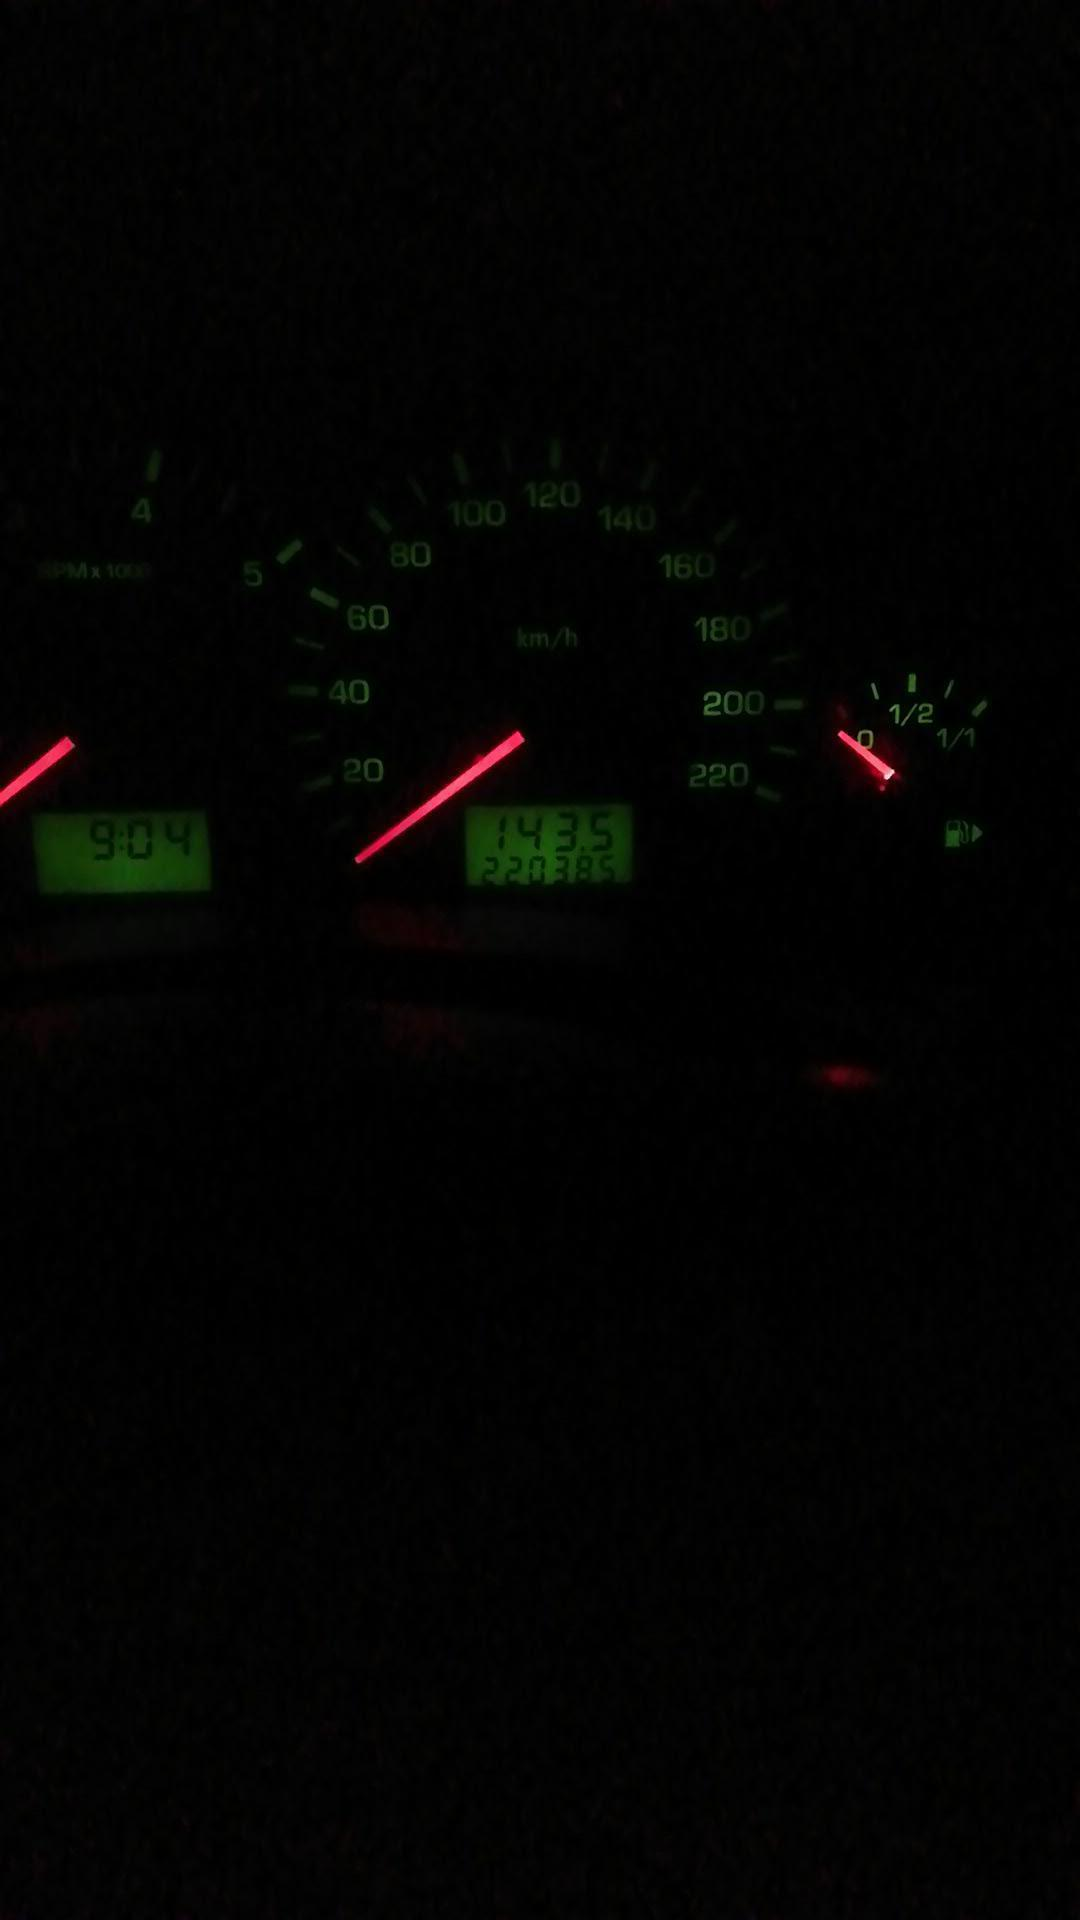,: (578, 845, 585, 852)
0: (527, 855, 545, 884)
1: (497, 814, 508, 852)
2: (504, 855, 522, 885), (481, 855, 498, 885)
3: (554, 811, 578, 852), (554, 855, 570, 884)
4: (516, 814, 543, 849)
5: (589, 811, 613, 851), (597, 855, 615, 882)
8: (575, 855, 593, 882)
odometer: (462, 800, 637, 887)
